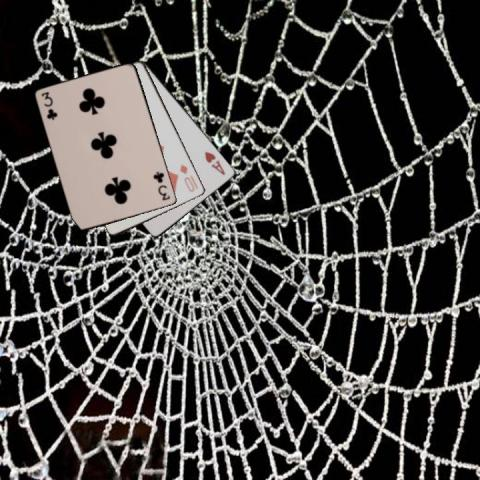10d: (177, 162, 196, 194)
3c: (151, 169, 171, 202), (38, 89, 58, 121)
Ah: (202, 148, 227, 177)
